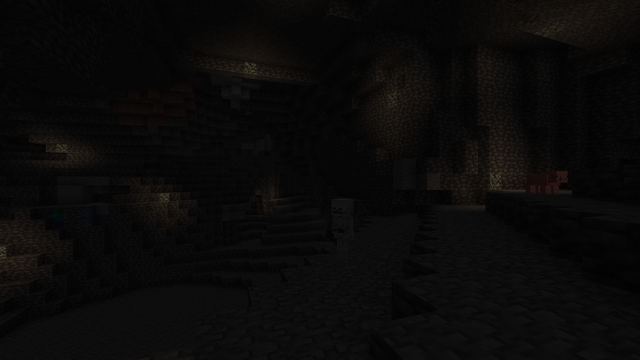cochons: (525, 173, 560, 193)
squelettes: (330, 198, 354, 264)
zombies: (52, 208, 64, 230)
